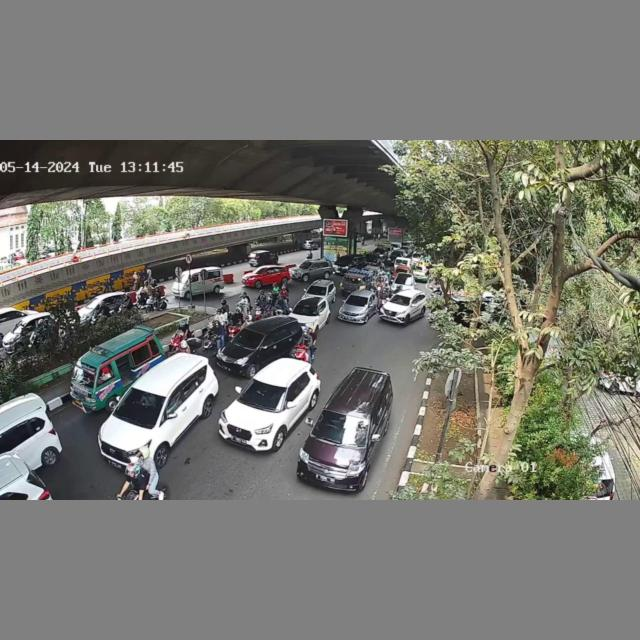windshield: (312, 409, 369, 445), (117, 388, 163, 427), (240, 379, 286, 410), (230, 325, 264, 349)
